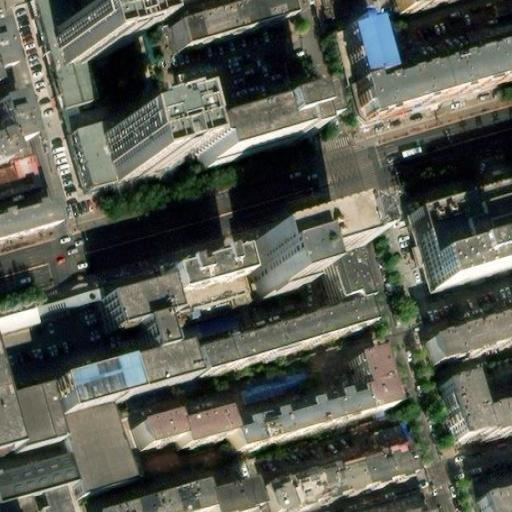building: (194, 312, 370, 382), (356, 44, 511, 120), (57, 347, 188, 413), (192, 104, 316, 170), (409, 178, 512, 254), (231, 397, 368, 454), (66, 399, 139, 488), (421, 223, 511, 294), (237, 230, 321, 303), (175, 0, 293, 44), (438, 383, 512, 452), (425, 308, 512, 364), (78, 115, 140, 186), (0, 450, 84, 502), (317, 237, 368, 320), (343, 441, 424, 490), (131, 410, 230, 450), (274, 462, 351, 510), (99, 278, 170, 329), (104, 113, 172, 164), (58, 9, 125, 60), (168, 254, 244, 296), (352, 352, 398, 418), (174, 276, 249, 313), (343, 20, 387, 83), (0, 92, 32, 162), (242, 373, 311, 405), (0, 196, 52, 234), (183, 313, 241, 346), (0, 157, 44, 198), (36, 290, 95, 320), (119, 491, 198, 512), (196, 486, 252, 512), (346, 495, 426, 512), (136, 315, 167, 352), (1, 489, 49, 512), (43, 482, 78, 512), (473, 498, 512, 512)
